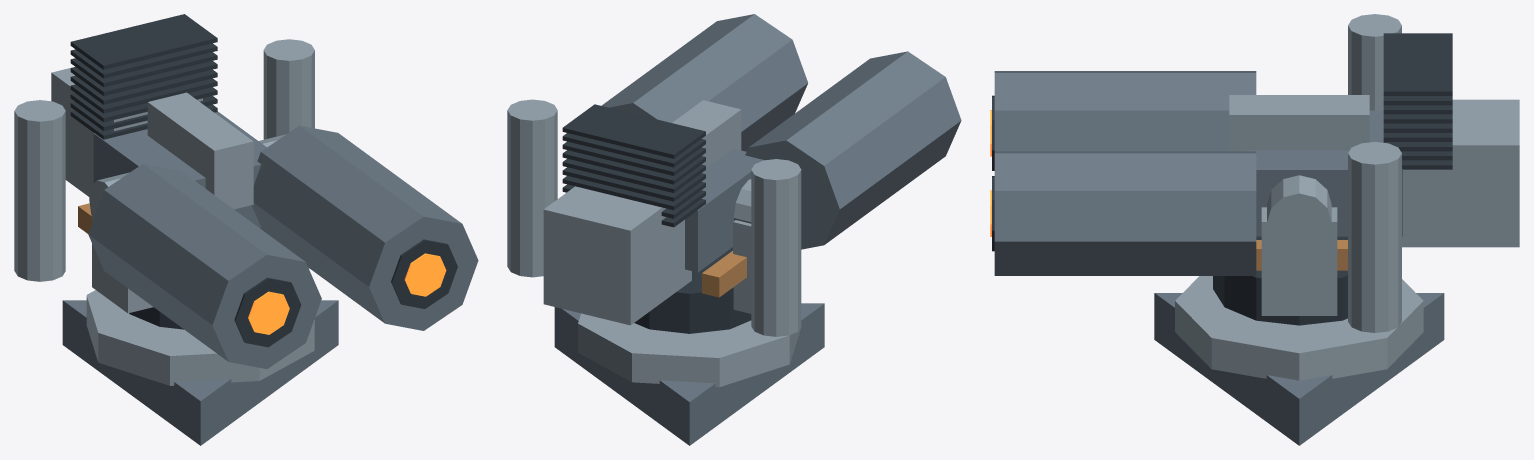
The model's file is kiln_t3.glb.
3 views of the same model, side by side, from view 1: azimuth 30°, elevation 25°; view 2: azimuth 150°, elevation 25°; view 3: azimuth 270°, elevation 25° (orthographic). The views are drawn at different scales.
Parts seen in each view (by area): view 1: Projector chamber (×2), Pressure tank (×2), Rear radiator (×9), Foundation, Base upper armor, Cooling spine, Recessed throat (×2), Receiver, Rear equipment, Internal glow (×2), Elevation fork, Trunnion (+1 smaller); view 2: Projector chamber (×2), Pressure tank (×2), Rear equipment, Rear radiator (×8), Base upper armor, Foundation, Receiver, Yaw bearing, Cooling spine, Insulated feed, Elevation fork, Trunnion; view 3: Projector chamber (×2), Rear equipment, Base upper armor, Pressure tank (×2), Foundation, Rear radiator (×7), Cooling spine, Elevation fork, Receiver, Trunnion, Yaw bearing, Insulated feed.
Part boxes in pixels (x1,y1,x2,y2): Projector chamber (×2): (88,125,478,368); Pressure tank (×2): (14,39,314,281); Rear radiator (×9): (70,14,217,139); Foundation: (62,300,338,445); Base upper armor: (86,290,314,385); Cooling spine: (147,92,253,209); Recessed throat (×2): (234,239,457,347); Receiver: (93,111,266,227); Rear equipment: (51,67,202,196); Internal glow (×2): (248,253,446,334); Elevation fork: (92,217,153,313); Trunnion: (89,172,129,219); Projector chamber (×2): (601,14,961,249); Pressure tank (×2): (507,99,801,336); Rear equipment: (543,186,691,325); Rear radiator (×8): (562,104,705,218); Base upper armor: (578,313,801,387); Foundation: (554,303,824,445); Receiver: (685,148,764,272); Yaw bearing: (634,247,751,333); Cooling spine: (672,100,741,167); Insulated feed: (702,251,746,297); Elevation fork: (733,220,751,313); Trunnion: (733,179,751,223); Projector chamber (×2): (994,71,1256,275); Rear equipment: (1402,99,1519,247); Base upper armor: (1175,276,1423,380); Pressure tank (×2): (1348,14,1401,332); Foundation: (1154,293,1444,445); Rear radiator (×7): (1383,33,1452,151); Cooling spine: (1229,95,1369,151); Elevation fork: (1261,207,1337,315); Receiver: (1247,110,1402,236); Trunnion: (1267,175,1331,251); Yaw bearing: (1213,236,1347,325); Insulated feed: (1256,240,1347,270).
Size of the model in its own units: 1.65 by 1.6 by 2.45.
